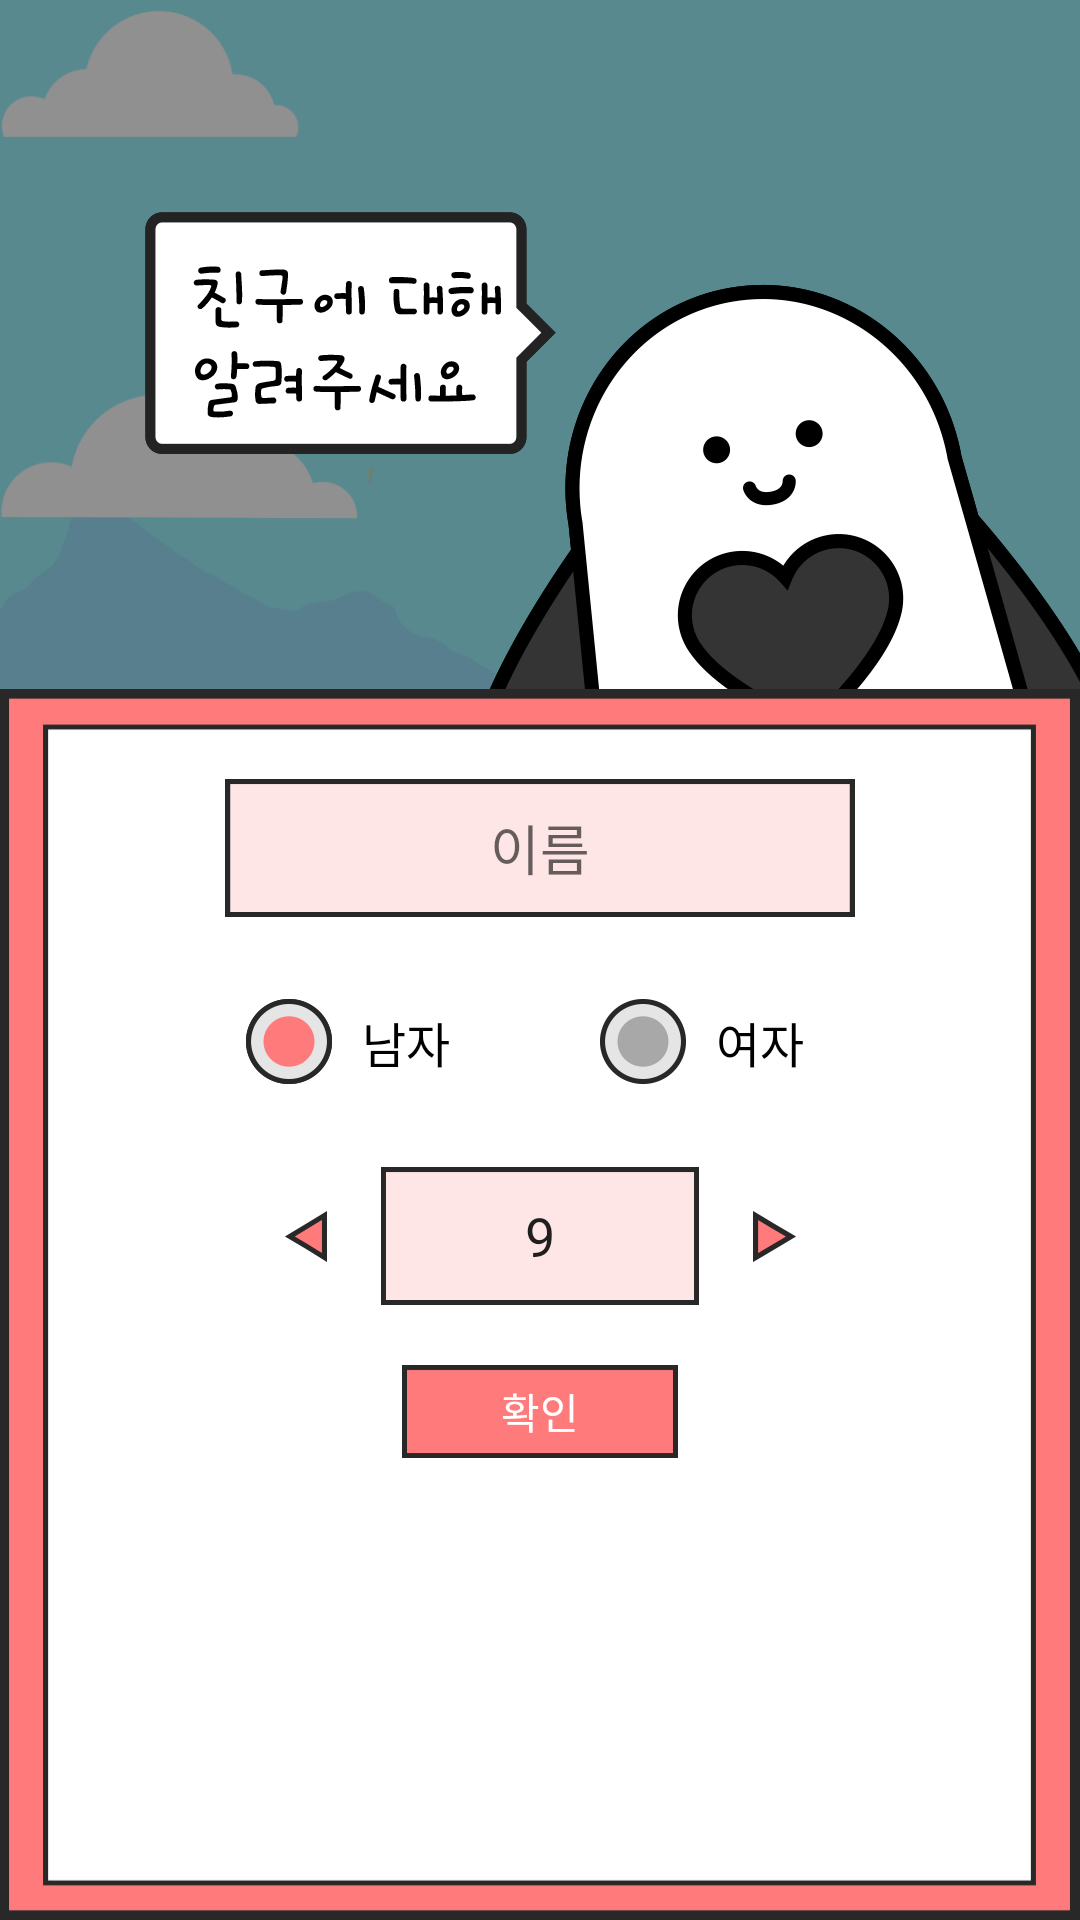

Where to tap for icons on this 1080w x 1920h app screen, as point (x, y):
cloud: point (150, 74), point (180, 455)
left: point (306, 1236)
right: point (774, 1236)
